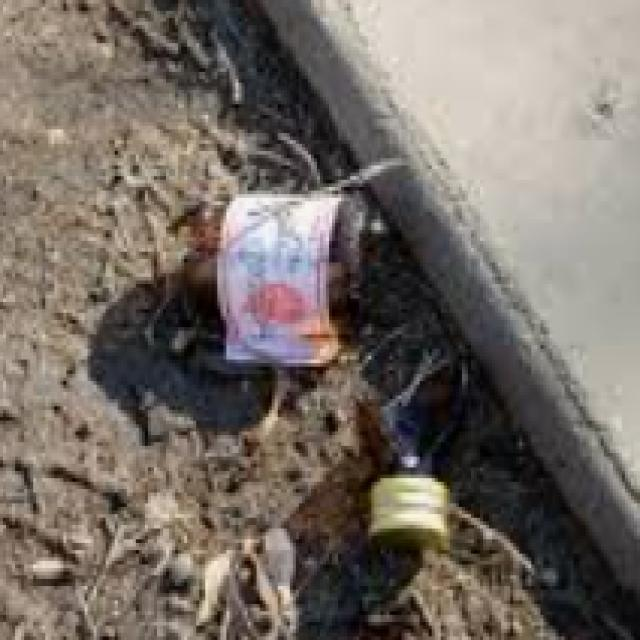PecahanKaca: (88, 151, 408, 442), (212, 184, 362, 370)
